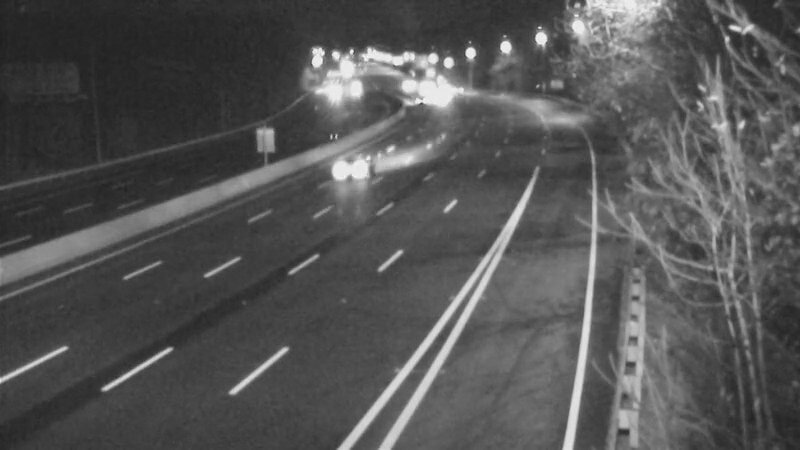vehicle: (311, 125, 391, 205), (380, 59, 430, 109), (430, 63, 480, 113), (406, 71, 456, 121), (392, 76, 442, 126), (306, 69, 356, 119)
